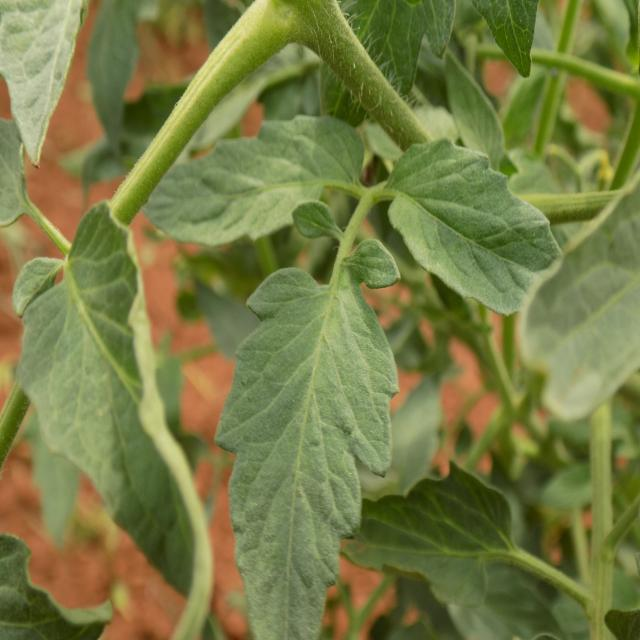tomato_healthy: (14, 199, 215, 640), (215, 260, 402, 640), (376, 133, 558, 320), (145, 115, 368, 246)
